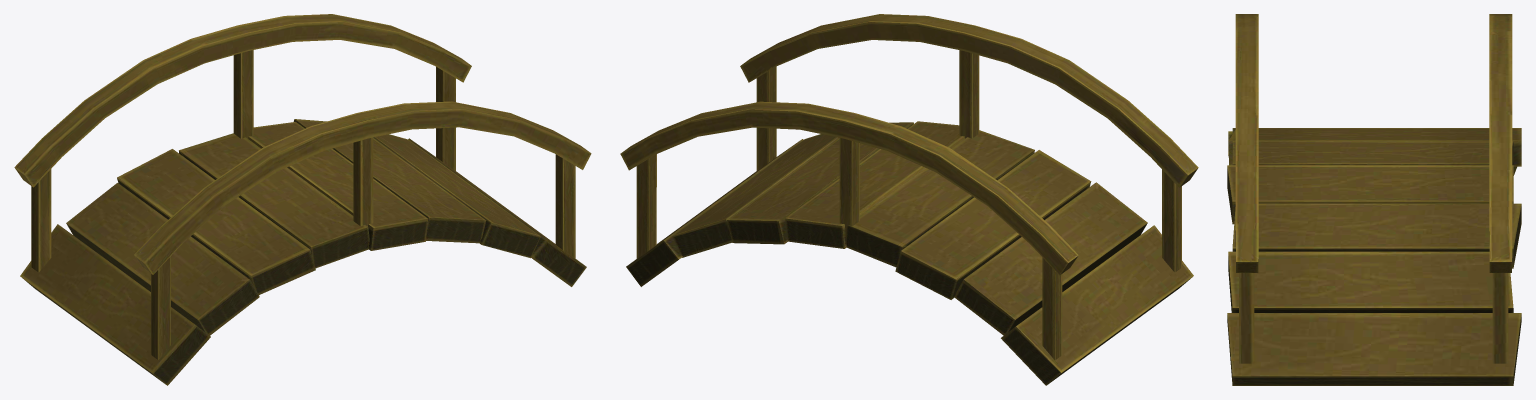
The model's file is bridge.fbx.
3 renders of one model, left to right at view 1: azimuth 30°, elevation 25°; view 2: azimuth 150°, elevation 25°; view 3: azimuth 270°, elevation 25°, orthographic. The views are drawn at different scales.
Visible parts, largest first — view 1: bridge; view 2: bridge; view 3: bridge.
Part boxes in pixels (box(x1,y1,x2,y2)): bridge: box(14, 14, 591, 385); bridge: box(620, 14, 1198, 385); bridge: box(1227, 14, 1521, 385).
Bounding box in the file's own units: 372 × 171 × 200.
